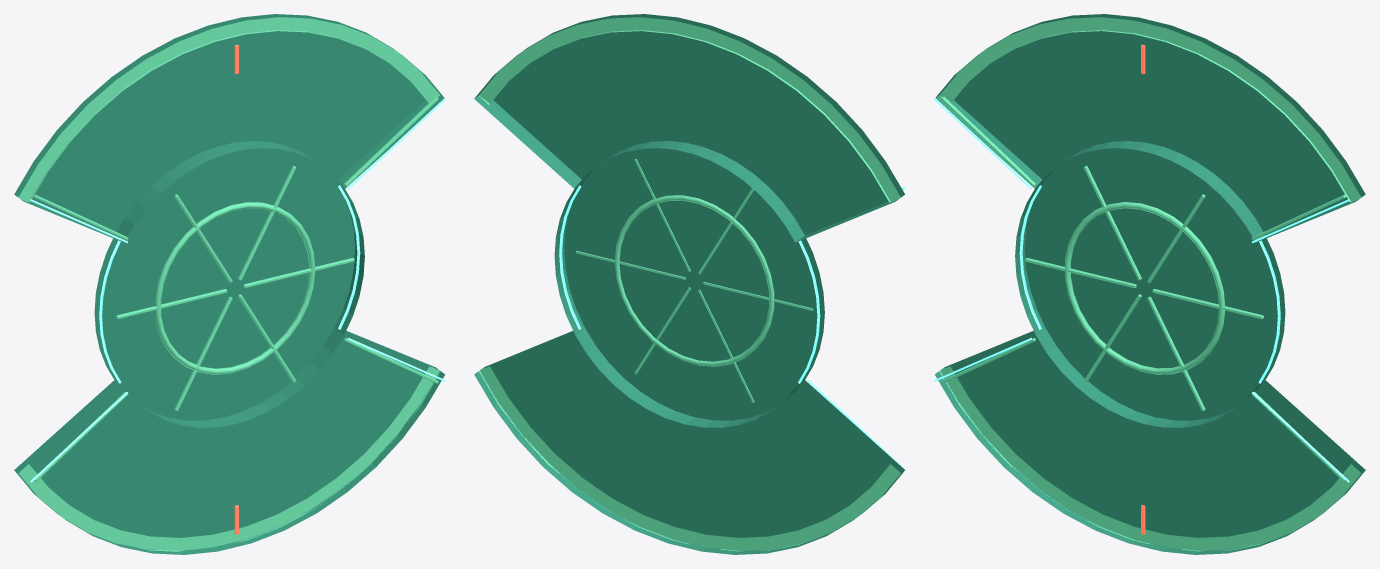
Rendered from bio-panel-fun1-medium.glb.
3 views of the same model, side by side, from view 1: azimuth 30°, elevation 25°; view 2: azimuth 150°, elevation 25°; view 3: azimuth 330°, elevation 25° (orthographic).
Visible parts, largest first — view 1: RENDER_PANEL_SHELL, RENDER_PANEL_FRAME, RENDER_PANEL_SIGNAL; view 2: RENDER_PANEL_SHELL, RENDER_PANEL_FRAME, RENDER_PANEL_SIGNAL; view 3: RENDER_PANEL_SHELL, RENDER_PANEL_FRAME, RENDER_PANEL_SIGNAL.
Part boxes in pixels (<box>): RENDER_PANEL_SHELL: <box>14,14,444,554</box>; RENDER_PANEL_FRAME: <box>18,17,440,551</box>; RENDER_PANEL_SIGNAL: <box>30,98,445,482</box>; RENDER_PANEL_SHELL: <box>474,14,904,554</box>; RENDER_PANEL_FRAME: <box>478,17,900,551</box>; RENDER_PANEL_SIGNAL: <box>559,185,905,469</box>; RENDER_PANEL_SHELL: <box>935,14,1365,554</box>; RENDER_PANEL_FRAME: <box>939,17,1361,551</box>; RENDER_PANEL_SIGNAL: <box>934,98,1349,482</box>.
Size of what is drawn, in the model's own units: 34.77 by 40.91 by 1.95.
